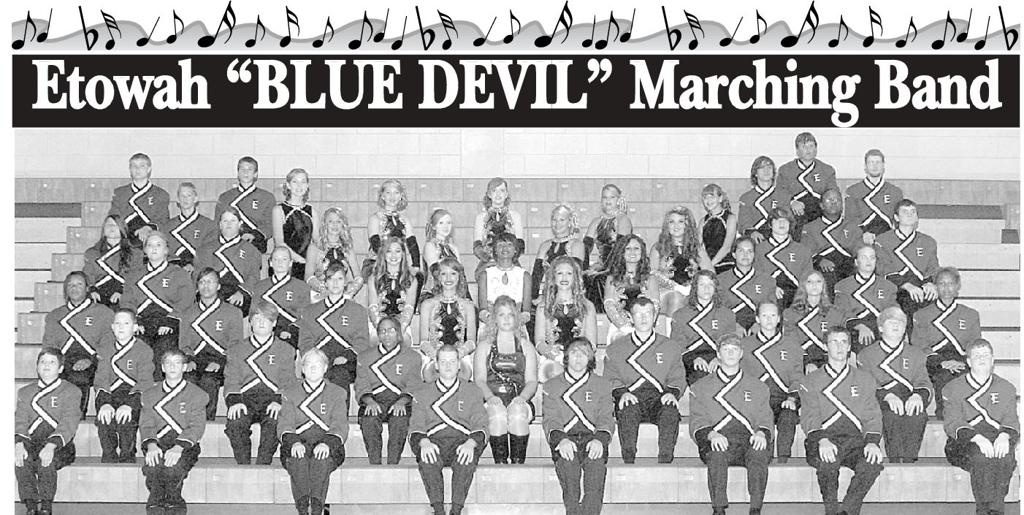human_face: (250, 302, 276, 334), (970, 340, 992, 374), (880, 308, 904, 338), (827, 328, 849, 360), (631, 302, 653, 332), (566, 343, 588, 371), (494, 302, 516, 330), (64, 272, 86, 299), (719, 338, 741, 364), (38, 352, 60, 378), (114, 310, 134, 338), (734, 238, 754, 266), (304, 352, 324, 380), (856, 246, 876, 272), (937, 272, 957, 298), (667, 210, 687, 236), (438, 263, 458, 289), (382, 240, 402, 266), (377, 320, 397, 346), (438, 350, 456, 378), (758, 303, 776, 330), (823, 191, 843, 215), (796, 136, 816, 160), (622, 238, 642, 262), (495, 235, 515, 259), (326, 268, 344, 294), (198, 270, 216, 296), (146, 234, 164, 260), (554, 263, 572, 289), (550, 208, 568, 234), (897, 203, 917, 225), (324, 210, 342, 234), (220, 211, 238, 235), (103, 215, 121, 239), (771, 210, 789, 234), (804, 271, 822, 295), (696, 274, 714, 298), (488, 179, 506, 203), (383, 182, 401, 206), (164, 352, 182, 376), (290, 170, 306, 196), (435, 211, 451, 237), (272, 247, 288, 272), (129, 157, 147, 179), (756, 158, 774, 180), (703, 186, 719, 210), (238, 159, 254, 181), (178, 186, 194, 208), (866, 154, 882, 176), (601, 188, 617, 210)
